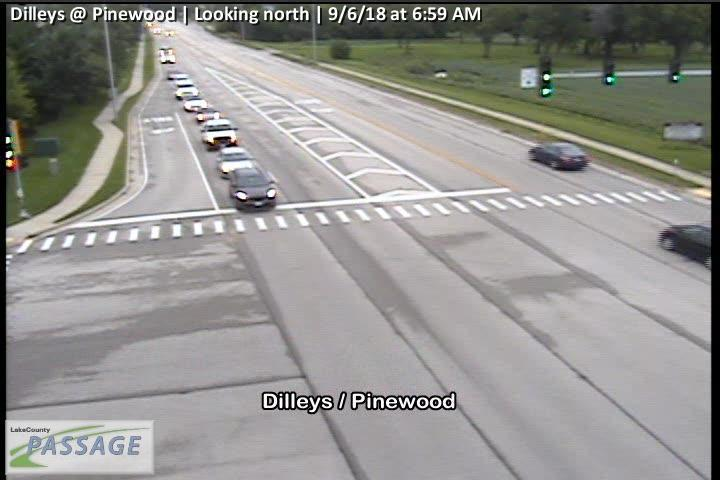SUV: (229, 167, 278, 211), (173, 79, 200, 99)
Sedan: (527, 140, 590, 168), (200, 114, 238, 150), (216, 147, 257, 179), (181, 95, 208, 112), (196, 106, 220, 121)
